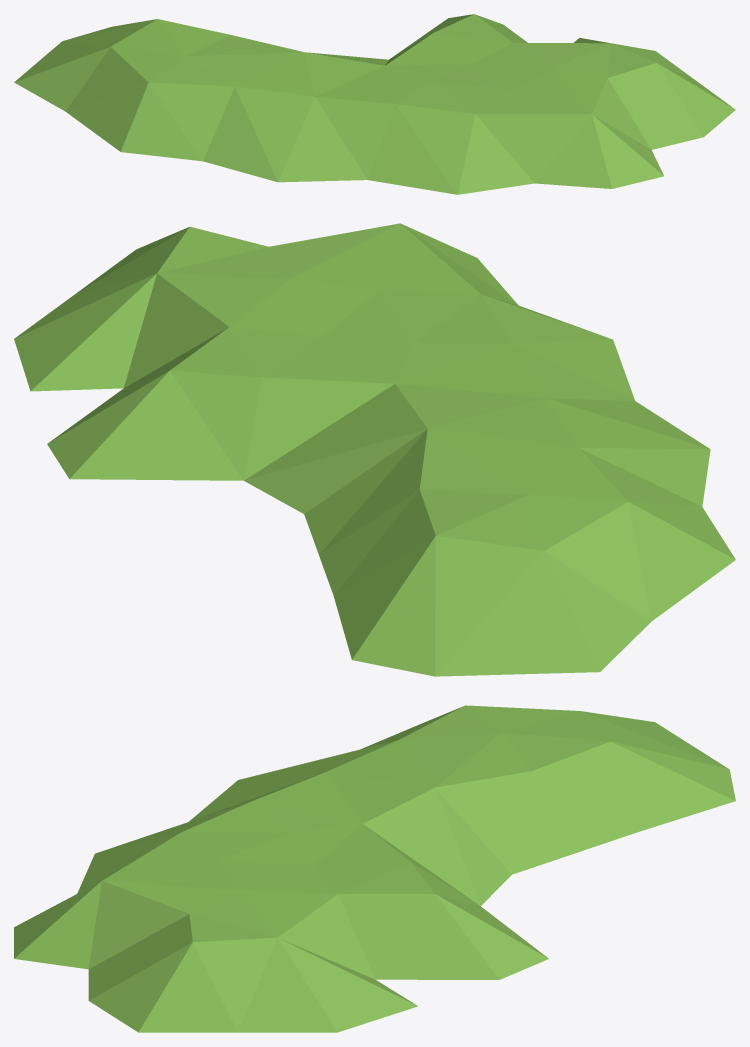
Rendered from MT_Mountain_S_b_15_LOD.fbx.
3 renders of one model, top to bottom at view 1: azimuth 30°, elevation 25°; view 2: azimuth 150°, elevation 25°; view 3: azimuth 270°, elevation 25°, orthographic. The views are drawn at different scales.
Parts seen in each view (by area): view 1: MT_Mountain_S_b_15_LOD0; view 2: MT_Mountain_S_b_15_LOD0; view 3: MT_Mountain_S_b_15_LOD0.
Part boxes in pixels (x1,y1,x2,y2): MT_Mountain_S_b_15_LOD0: (14, 14, 735, 194); MT_Mountain_S_b_15_LOD0: (14, 223, 735, 676); MT_Mountain_S_b_15_LOD0: (14, 705, 735, 1032).
Size of what is drawn, in the model's own units: 2368 by 202 by 2328.
